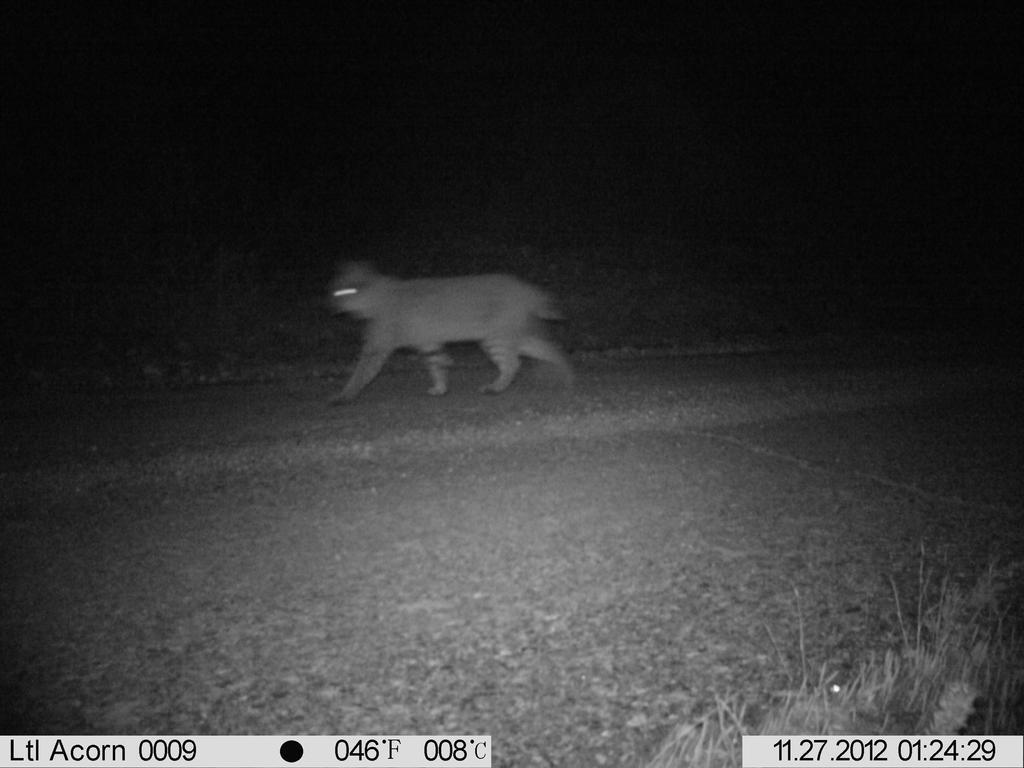bobcat: (322, 246, 583, 410)
